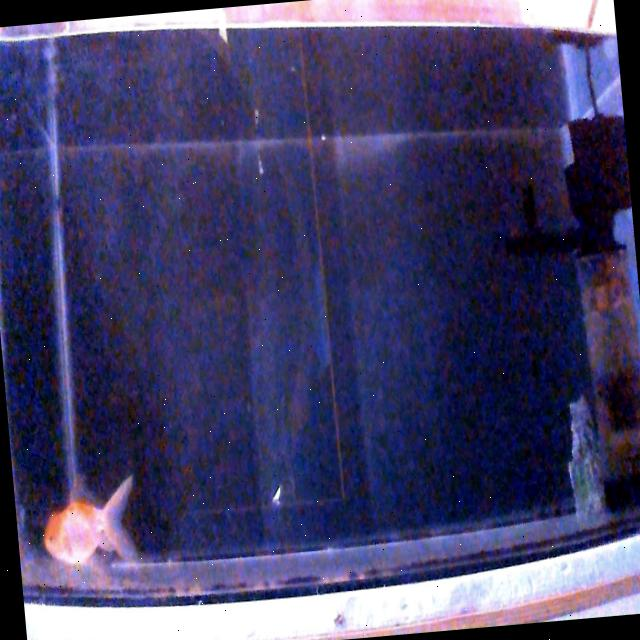fish: (38, 474, 142, 572)
